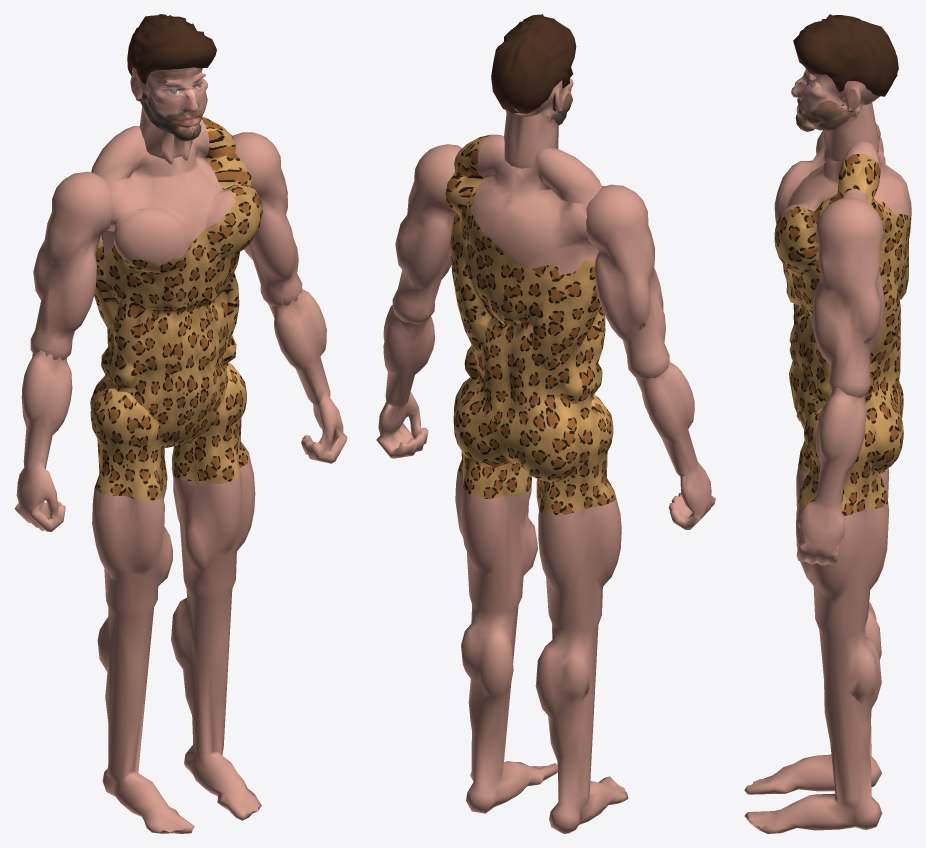
Rendered from strongman.glb.
3 views of the same model, side by side, from view 1: azimuth 30°, elevation 25°; view 2: azimuth 150°, elevation 25°; view 3: azimuth 270°, elevation 25° (orthographic). The views are drawn at different scales.
Visible parts, largest first — view 1: Body, Leg_R, Leg_L, Arm_R, Head, Forearm_R, Arm_L, Forearm_L; view 2: Body, Leg_R, Leg_L, Arm_R, Head, Arm_L, Forearm_R, Forearm_L; view 3: Leg_L, Body, Arm_L, Head, Forearm_L, Leg_R.
Part boxes in pixels (box(x1,y1,x2,y2)): Body: box(90, 117, 262, 447); Leg_R: box(90, 388, 194, 833); Leg_L: box(171, 362, 261, 820); Arm_R: box(30, 171, 112, 360); Head: box(127, 14, 216, 164); Forearm_R: box(14, 348, 72, 531); Arm_L: box(232, 132, 302, 306); Forearm_L: box(269, 288, 347, 463); Body: box(445, 134, 605, 482); Leg_R: box(535, 395, 628, 833); Leg_L: box(453, 377, 557, 813); Arm_R: box(586, 184, 669, 379); Head: box(491, 14, 576, 168); Arm_L: box(392, 144, 462, 324); Forearm_R: box(636, 360, 715, 529); Forearm_L: box(376, 300, 434, 458); Leg_L: box(744, 408, 889, 833); Body: box(774, 123, 911, 472); Arm_L: box(812, 198, 884, 397); Head: box(791, 14, 898, 162); Forearm_L: box(796, 382, 868, 565); Leg_R: box(744, 440, 889, 794).
Size of the model in its own units: 0.7975 by 1.87 by 0.3585.
Materials: 5 (3 with a texture image).
